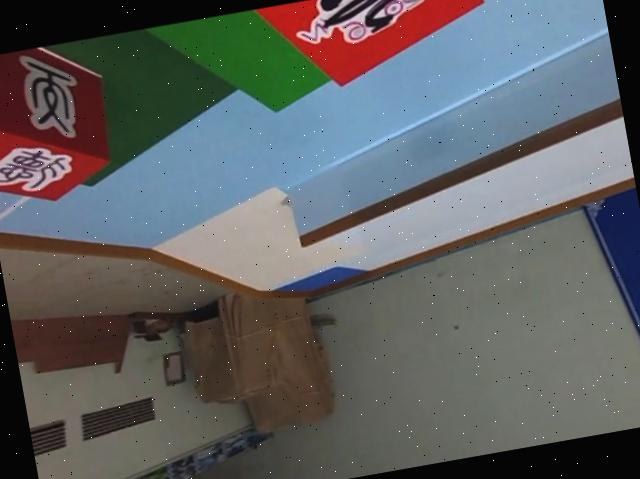R1: (230, 0, 492, 113)
R2 Fake: (0, 36, 122, 213)
